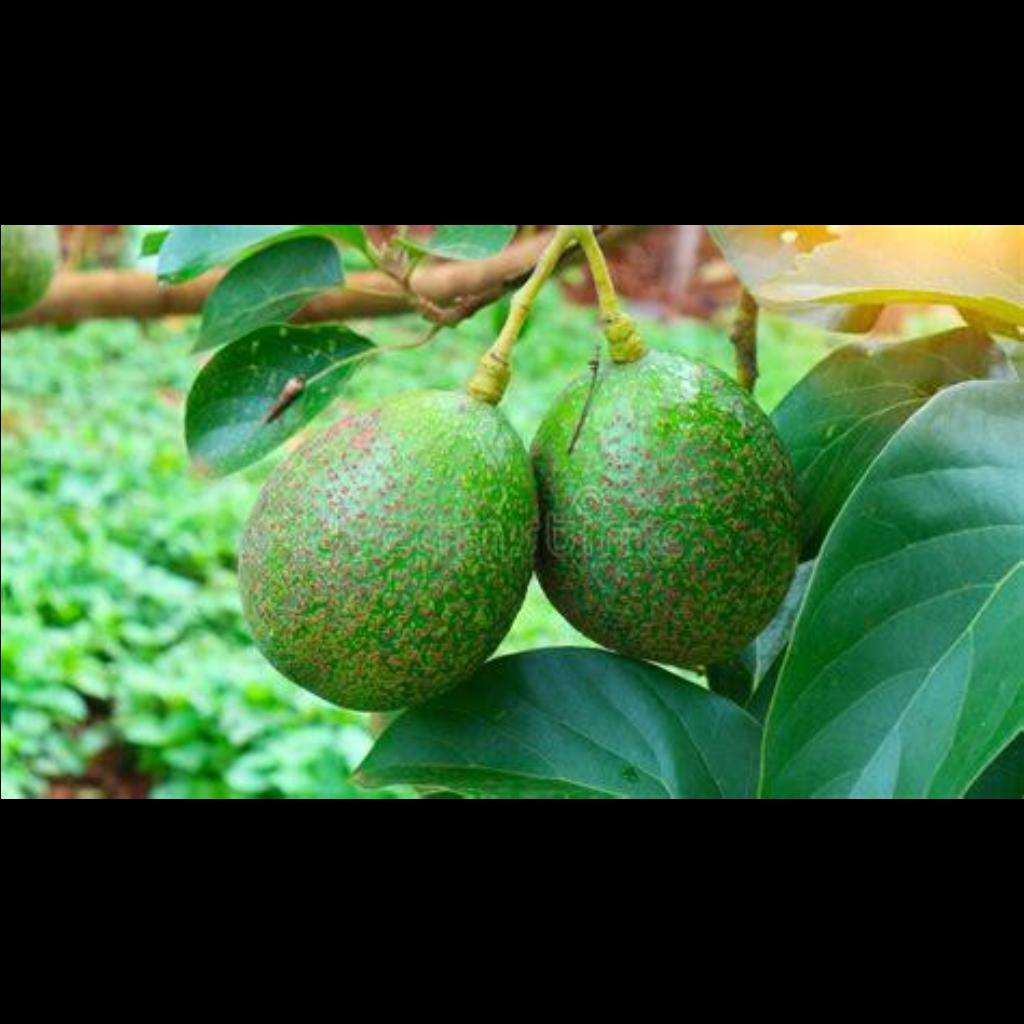Healthy: (236, 367, 538, 721), (561, 346, 809, 660)
